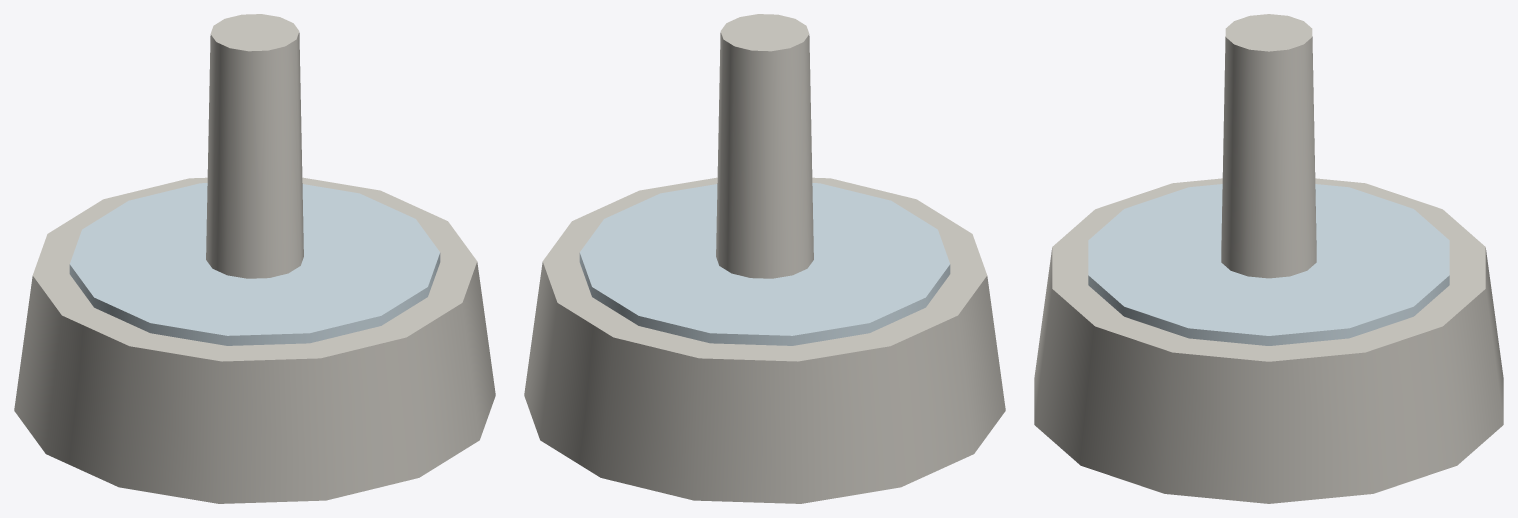
The model's file is Fountain.glb.
3 views of the same model, side by side, from view 1: azimuth 30°, elevation 25°; view 2: azimuth 150°, elevation 25°; view 3: azimuth 270°, elevation 25° (orthographic).
Parts seen in each view (by area): view 1: model; view 2: model; view 3: model.
Part boxes in pixels (<box>): model: <box>14,14,495,503</box>; model: <box>524,14,1005,503</box>; model: <box>1034,14,1503,503</box>.
Size of the model in its own units: 1.3 by 1.1 by 1.27.
